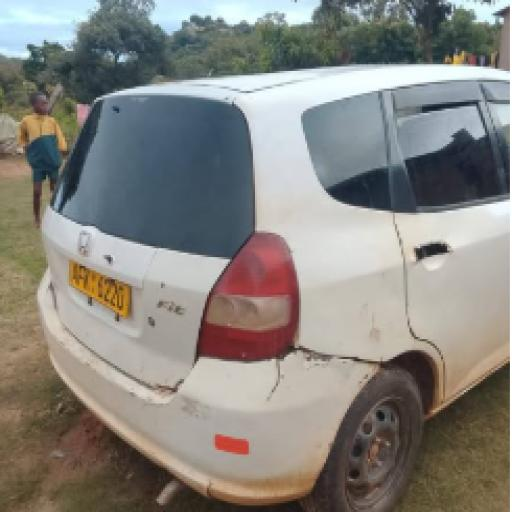number-plates: (67, 256, 134, 316)
